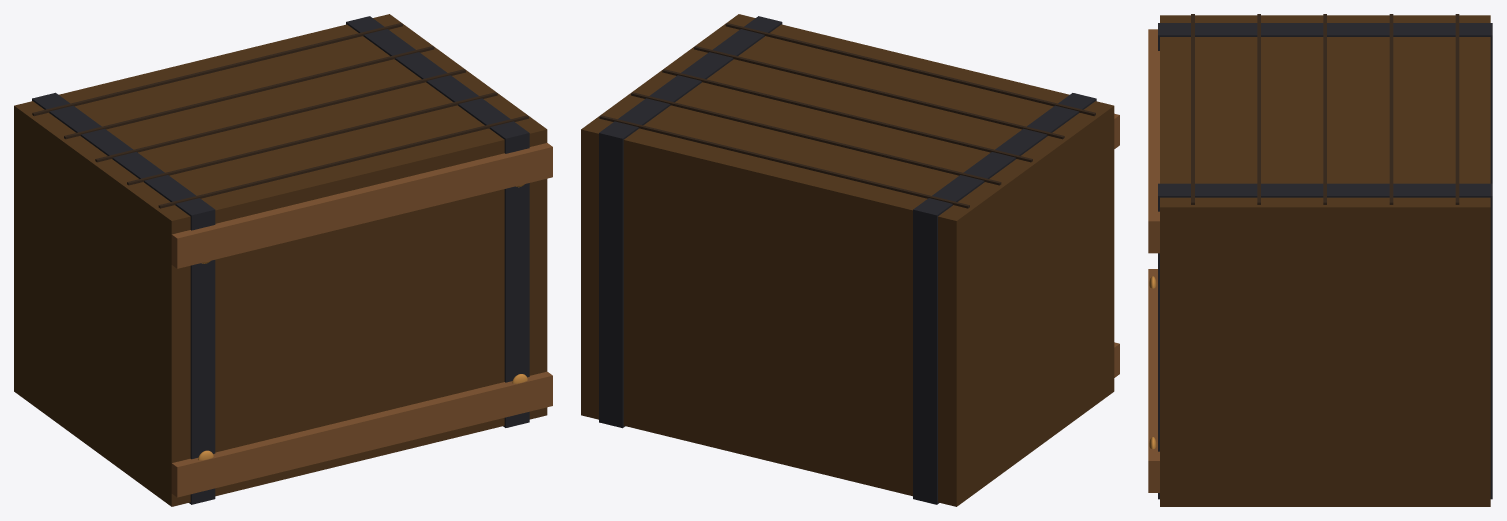
Rendered from mia-gold_crate.glb.
3 renders of one model, left to right at view 1: azimuth 30°, elevation 25°; view 2: azimuth 150°, elevation 25°; view 3: azimuth 270°, elevation 25°, orthographic. The views are drawn at different scales.
Parts seen in each view (by area): view 1: Body_wood, Body_oak, Body_iron, Body_grain; view 2: Body_wood, Body_iron, Body_grain; view 3: Body_wood, Body_iron, Body_oak, Body_grain.
Boxes of the visible parts, x1,y1,x2,y2 form: Body_wood: [14, 14, 547, 506]; Body_oak: [171, 143, 552, 497]; Body_iron: [32, 16, 529, 504]; Body_grain: [32, 23, 528, 208]; Body_wood: [581, 14, 1114, 506]; Body_iron: [599, 16, 1096, 504]; Body_grain: [599, 23, 1095, 208]; Body_wood: [1160, 15, 1490, 506]; Body_iron: [1158, 23, 1492, 499]; Body_oak: [1148, 29, 1159, 492]; Body_grain: [1191, 14, 1459, 204].
Size of the model in its own units: 1.1 by 0.813 by 0.833.
